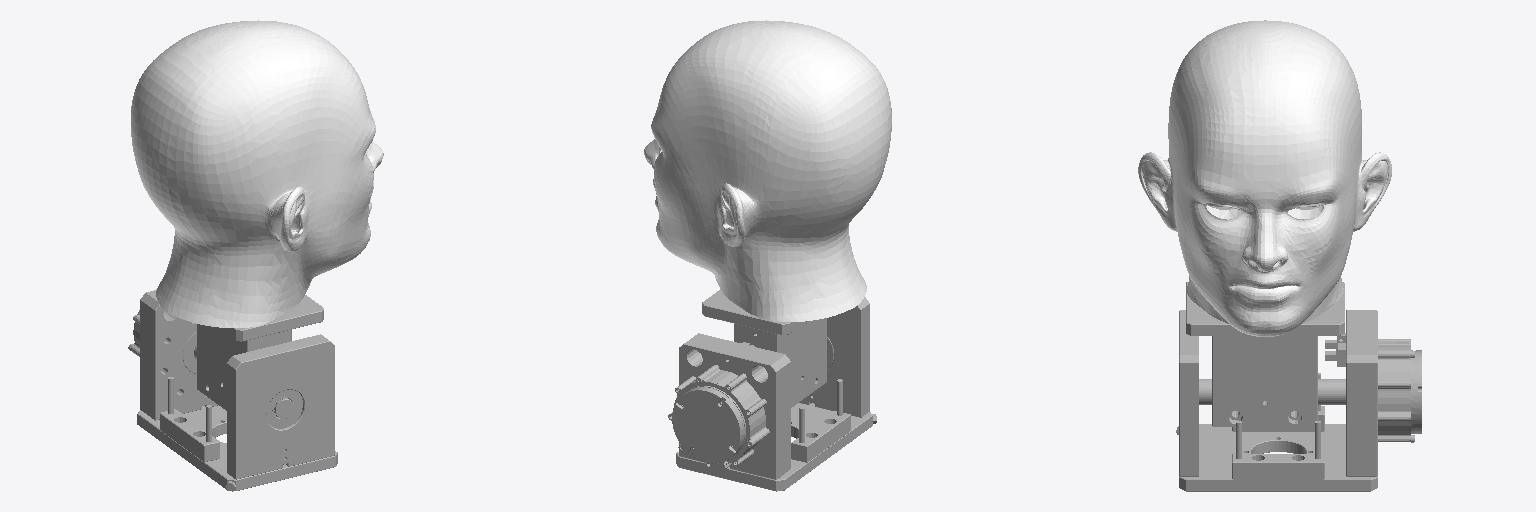
robot.urdf — head_yaw_and_pitch:
<?xml version="1.0" encoding="utf-8"?>
<!-- This URDF was automatically created by SolidWorks to URDF Exporter! Originally created by [author] ([email redacted]) 
     Commit Version: 1.6.0-4-g7f85cfe  Build Version: 1.6.7995.38578
     For more information, please see http://wiki.ros.org/sw_urdf_exporter -->
<robot
  name="head_yaw_and_pitch">

  <link name="world" />

  <joint name="fix_on_the_world" type="fixed">
    <parent link="world" />
    <child link="base_link" />
  </joint>
  
  <link
    name="base_link">
    <inertial>
      <origin
        xyz="-1.1474E-05 0.023378 0.044803"
        rpy="0 0 0" />
      <mass
        value="0.55854" />
      <inertia
        ixx="0.00057363"
        ixy="5.5521E-07"
        ixz="-3.9046E-07"
        iyy="0.00067156"
        iyz="-2.2128E-08"
        izz="0.00064583" />
    </inertial>
    <visual>
      <origin
        xyz="0 0 0"
        rpy="0 0 0" />
      <geometry>
        <mesh
          filename="package://head_sim/meshes/base_link.STL" />
      </geometry>
      <material
        name="">
        <color
          rgba="0.75294 0.75294 0.75294 1" />
      </material>
    </visual>
    <collision>
      <origin
        xyz="0 0 0"
        rpy="0 0 0" />
      <geometry>
        <mesh
          filename="package://head_sim/meshes/base_link.STL" />
      </geometry>
    </collision>
  </link>
  <link
    name="link_pitch">
    <inertial>
      <origin
        xyz="-5.3309E-05 -0.0079231 0.031075"
        rpy="0 0 0" />
      <mass
        value="0.40415" />
      <inertia
        ixx="0.00044454"
        ixy="-1.0004E-09"
        ixz="-7.1431E-07"
        iyy="0.0002397"
        iyz="1.3536E-07"
        izz="0.00038362" />
    </inertial>
    <visual>
      <origin
        xyz="0 0 0"
        rpy="0 0 0" />
      <geometry>
        <mesh
          filename="package://head_sim/meshes/link_pitch.STL" />
      </geometry>
      <material
        name="">
        <color
          rgba="0.75294 0.75294 0.75294 1" />
      </material>
    </visual>
    <collision>
      <origin
        xyz="0 0 0"
        rpy="0 0 0" />
      <geometry>
        <mesh
          filename="package://head_sim/meshes/link_pitch.STL" />
      </geometry>
    </collision>
  </link>
  <joint
    name="joint_pitch"
    type="revolute">
    <origin
      xyz="0 0 0.06"
      rpy="0 0 0" />
    <parent
      link="base_link" />
    <child
      link="link_pitch" />
    <axis
      xyz="0 1 0" />
    <limit
      lower="-1.57"
      upper="1.57"
      effort="100"
      velocity="1" />
  </joint>
  <link
    name="link_head">
    <inertial>
      <origin
        xyz="0.0095032 2.5297E-06 0.11715"
        rpy="0 0 0" />
      <mass
        value="3.8486" />
      <inertia
        ixx="0.016603"
        ixy="1.8824E-08"
        ixz="0.0010935"
        iyy="0.019835"
        iyz="-1.1105E-08"
        izz="0.012264" />
    </inertial>
    <visual>
      <origin
        xyz="0 0 0"
        rpy="0 0 0" />
      <geometry>
        <mesh
          filename="package://head_sim/meshes/link_head.STL" />
      </geometry>
      <material
        name="">
        <color
          rgba="1 1 1 1" />
      </material>
    </visual>
    <!-- <collision>
      <origin
        xyz="0 0 0"
        rpy="0 0 0" />
      <geometry>
        <mesh
          filename="package://head_sim/meshes/link_head.STL" />
      </geometry>
    </collision> -->
    <collision>
      <origin
        xyz="0 0 0.1"
        rpy="0 0 0" />
      <geometry>
        <sphere
          radius="0.001" />
      </geometry>
    </collision>
  </link>
  <joint
    name="joint_yaw"
    type="revolute">
    <origin
      xyz="0 -0.01 0.07"
      rpy="0 0 0" />
    <parent
      link="link_pitch" />
    <child
      link="link_head" />
    <axis
      xyz="0 0 1" />
    <limit
      lower="-1.57"
      upper="1.57"
      effort="100"
      velocity="1" />
  </joint>
  <gazebo
    reference="base_link" >
    <gravity>
      false
    </gravity>
  </gazebo>
  <gazebo
    reference="link_pitch" >
    <gravity>
      false
    </gravity>
  </gazebo>
  <gazebo
    reference="link_head" >
    <gravity>
      false
    </gravity>
  </gazebo>
</robot>

--- Render facts (derived) ---
The picture shows the robot from 3 angles, left to right: view 1: azimuth 30°, elevation 25°; view 2: azimuth 150°, elevation 25°; view 3: azimuth 270°, elevation 25°; orthographic projection.
Model head_yaw_and_pitch with 4 links and 3 joints (2 revolute, 1 fixed), rooted at world, posed all joints at 0.
Visible links, largest first — view 1: link_head, base_link, link_pitch; view 2: link_head, base_link, link_pitch; view 3: link_head, base_link, link_pitch.
Boxes of the visible links, left/top/right/bottom form: link_head: left=131, top=20, right=383, bottom=327; base_link: left=128, top=289, right=337, bottom=491; link_pitch: left=183, top=295, right=323, bottom=428; link_head: left=644, top=20, right=891, bottom=321; base_link: left=668, top=297, right=876, bottom=491; link_pitch: left=702, top=289, right=833, bottom=407; link_head: left=1138, top=20, right=1391, bottom=336; base_link: left=1176, top=310, right=1421, bottom=491; link_pitch: left=1186, top=282, right=1345, bottom=426.
Size in the robot's own frame: 0.2128 by 0.2148 by 0.3595 metres.
3 mesh visuals loaded from 3 distinct referenced files (3 binary STL).
